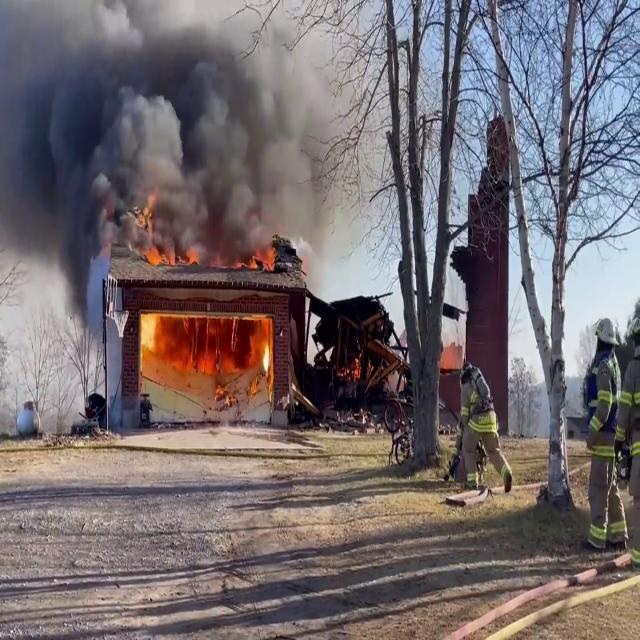Fire: (136, 305, 278, 397)
Smoke: (0, 1, 362, 279)
